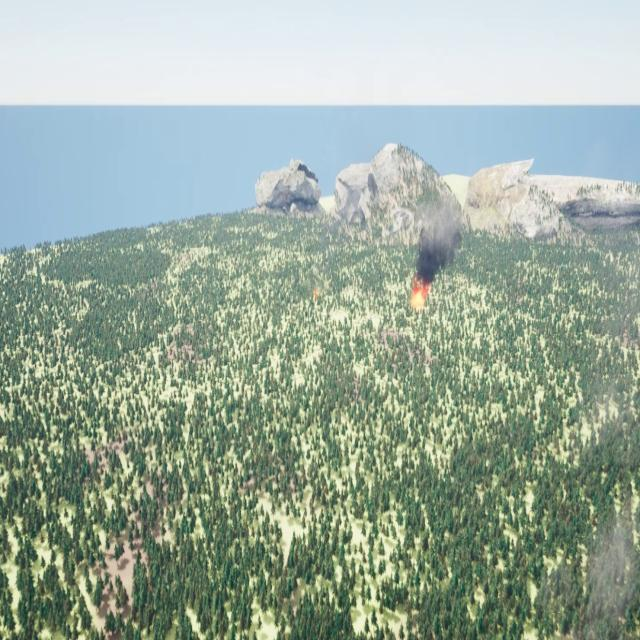fire: (405, 284, 430, 310)
smoke: (546, 524, 636, 639), (416, 215, 454, 282)
